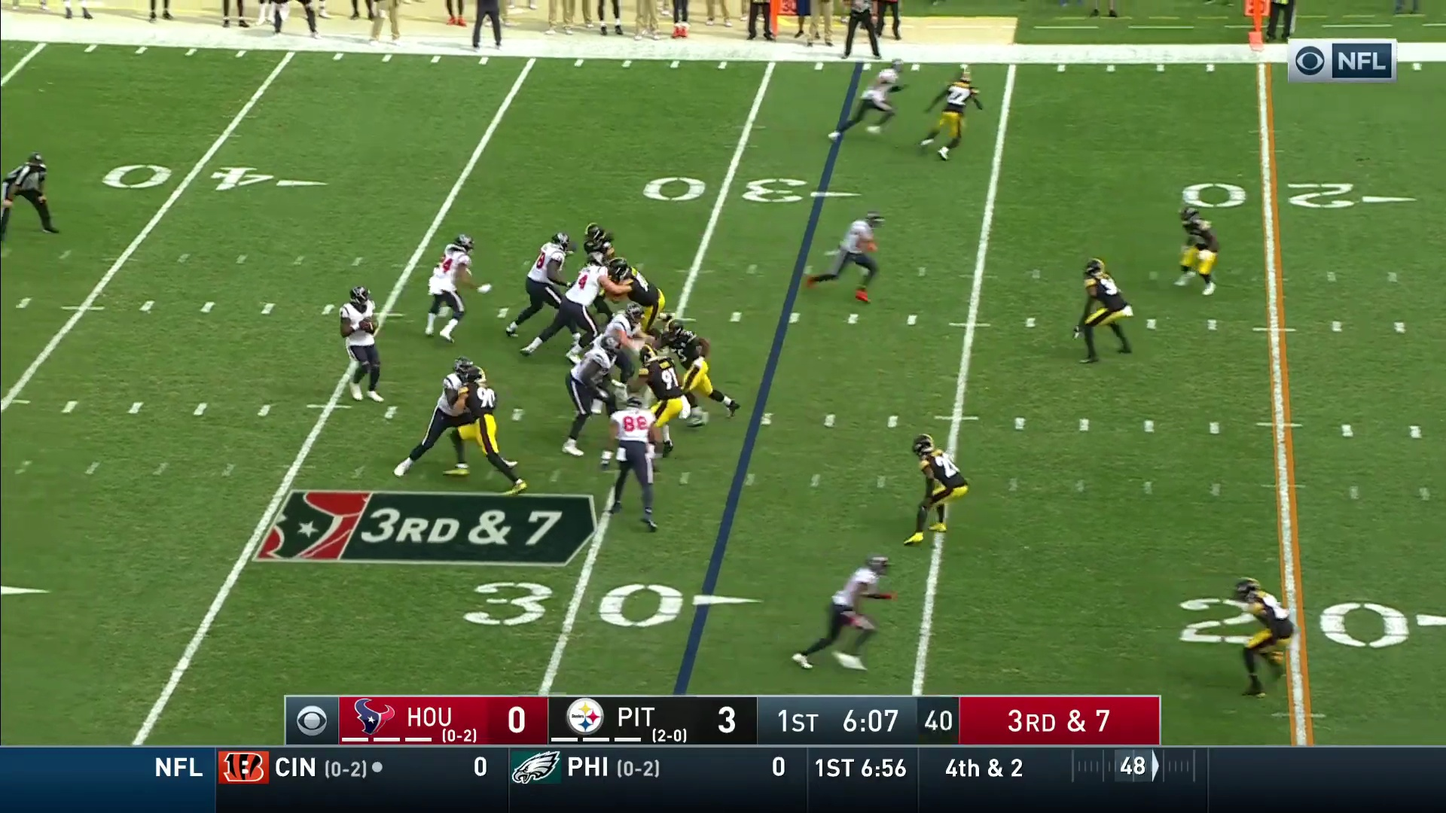Player: (905, 433, 968, 541), (436, 358, 496, 470), (809, 218, 880, 301), (610, 403, 656, 529), (921, 66, 978, 158), (339, 286, 382, 400), (427, 234, 473, 339), (560, 251, 608, 340), (620, 263, 665, 354), (603, 302, 646, 396), (1178, 198, 1219, 294), (646, 353, 686, 451), (665, 317, 712, 398), (569, 333, 615, 415), (580, 224, 616, 305), (601, 255, 635, 318)
